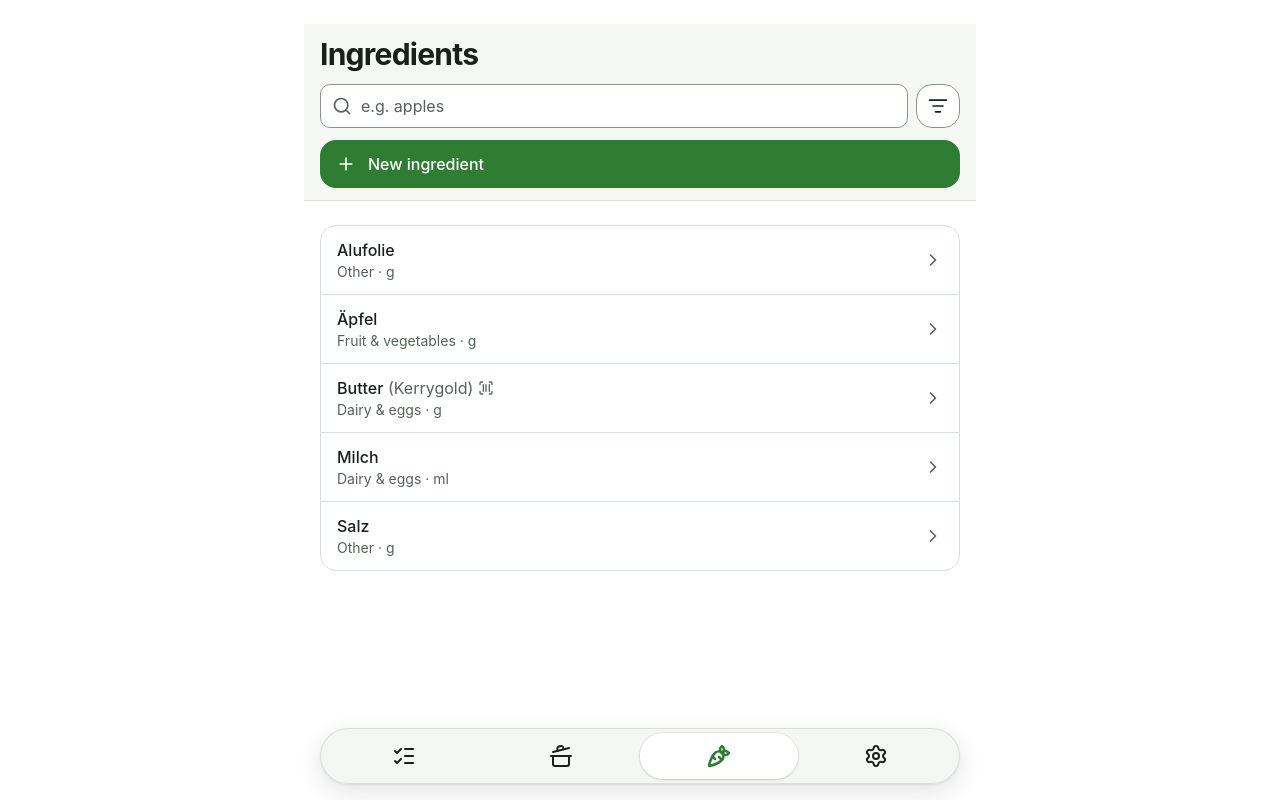
IngredientsScreen › resets every group but keeps the search, and closes with “Done” (UI-01)
This screenshot has width=1280, height=800.
Check: the list with test id "ingredient-list" is shown, box 320,225 -> 960,571
In the search field named "Search ingredients": [614, 106] box 320,84 -> 908,128, type "aepfel"
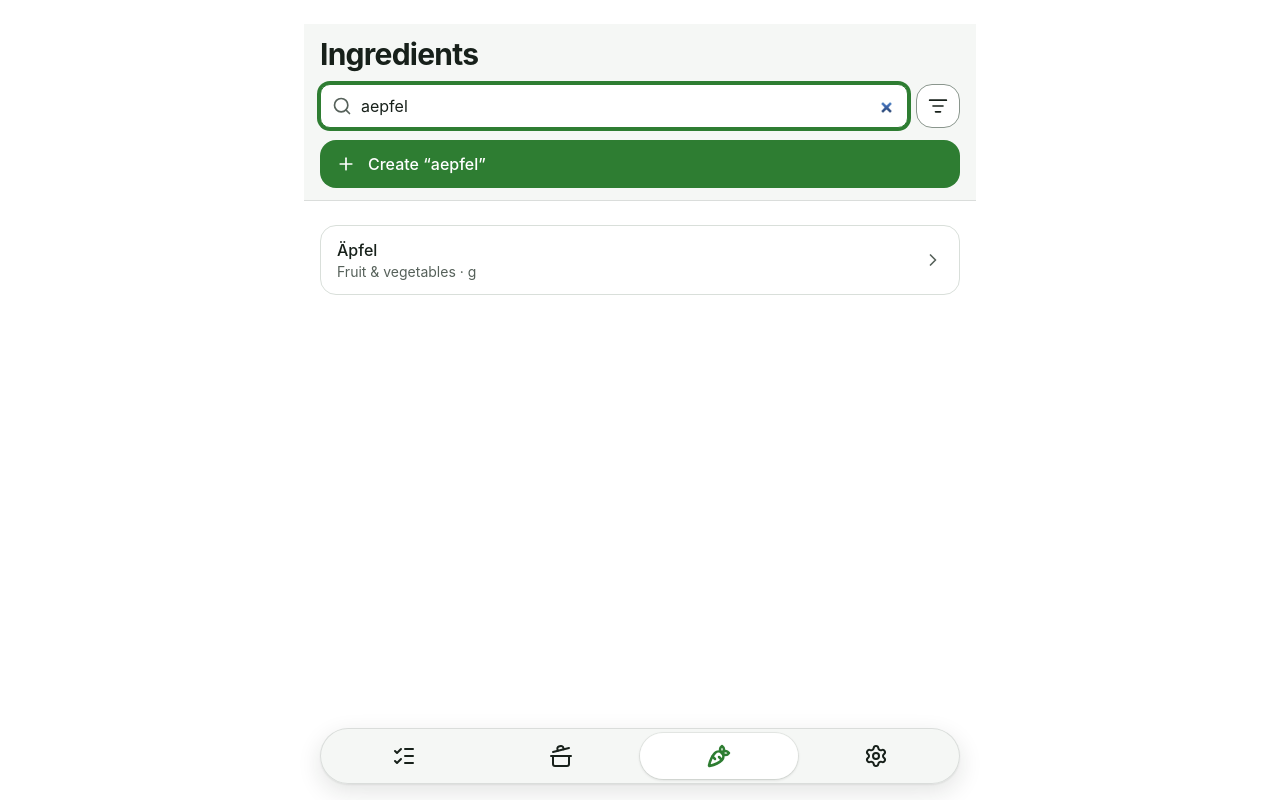
Click the button with test id "filter-button": [938, 106] box 916,84 -> 960,128
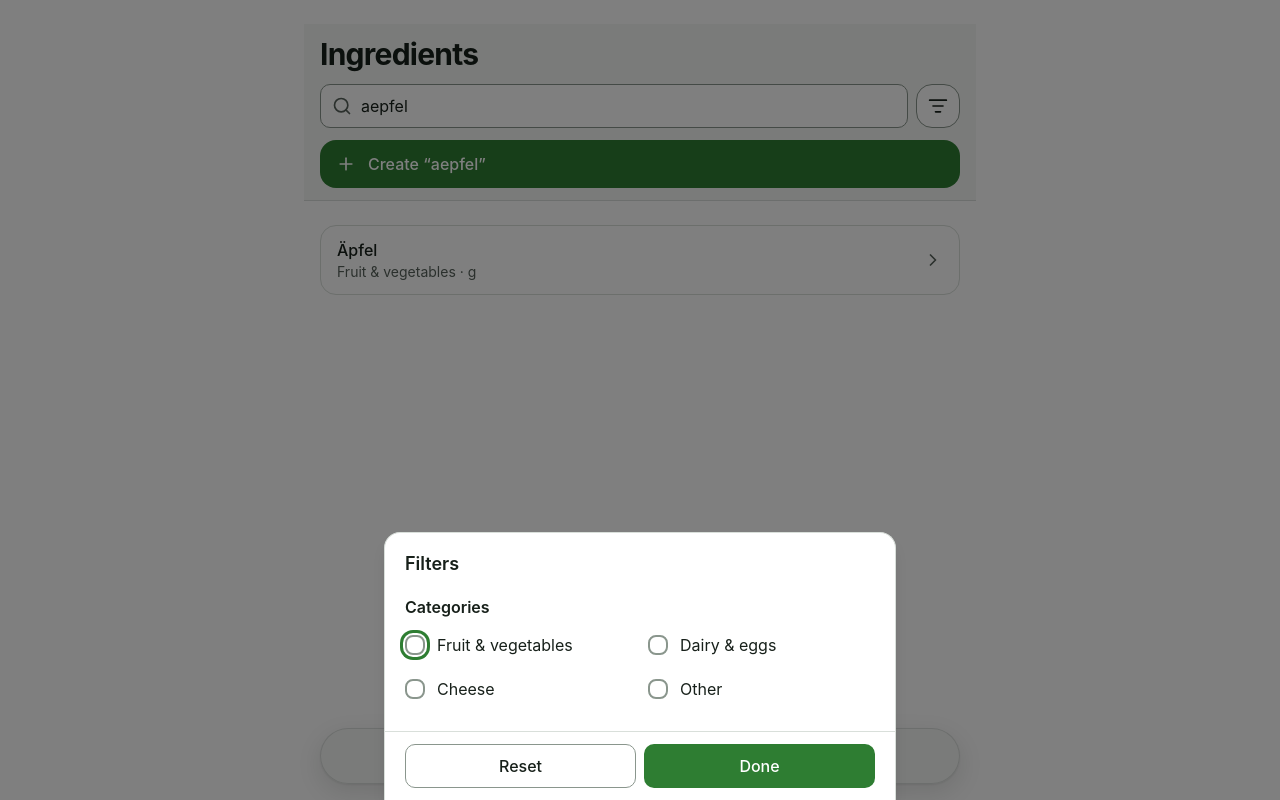
Click the checkbox labelled "Dairy & eggs": [658, 645] box 648,635 -> 668,655
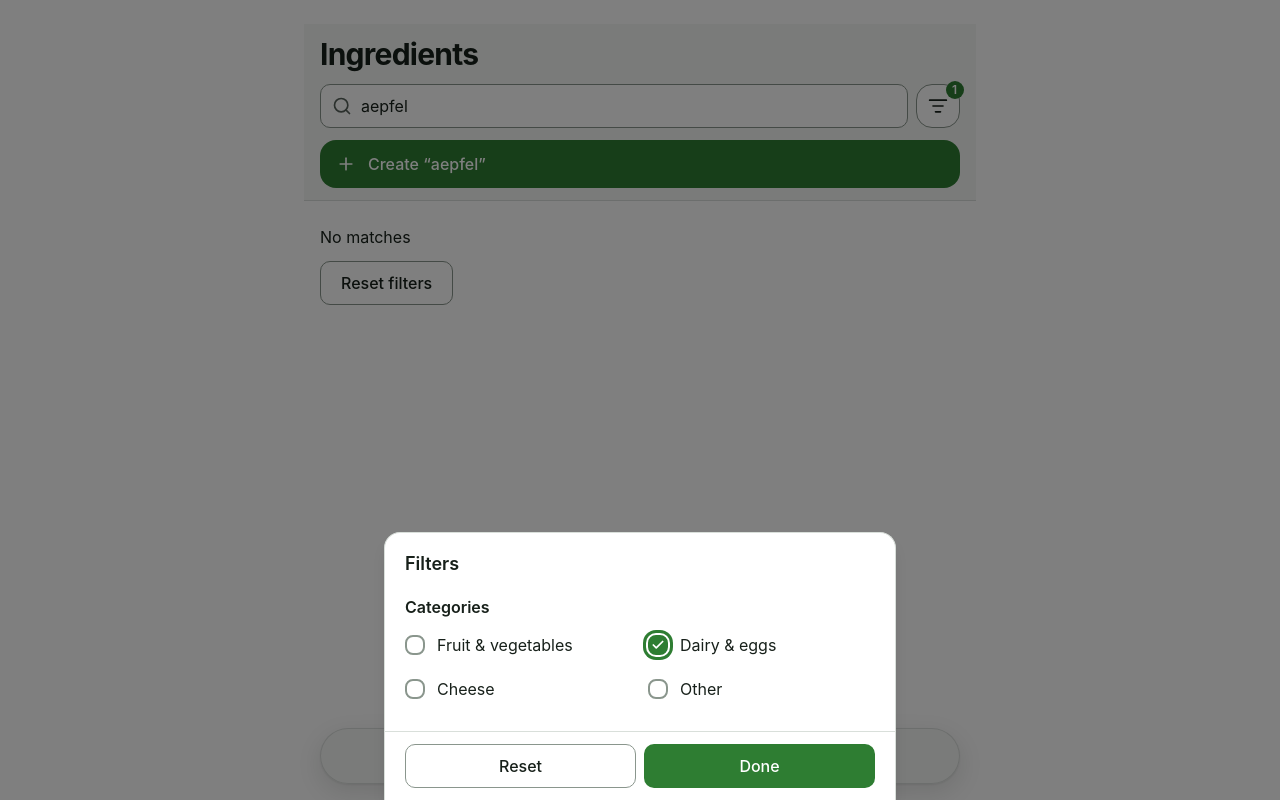
Click the checkbox labelled "Cheese": [415, 689] box 405,679 -> 425,699
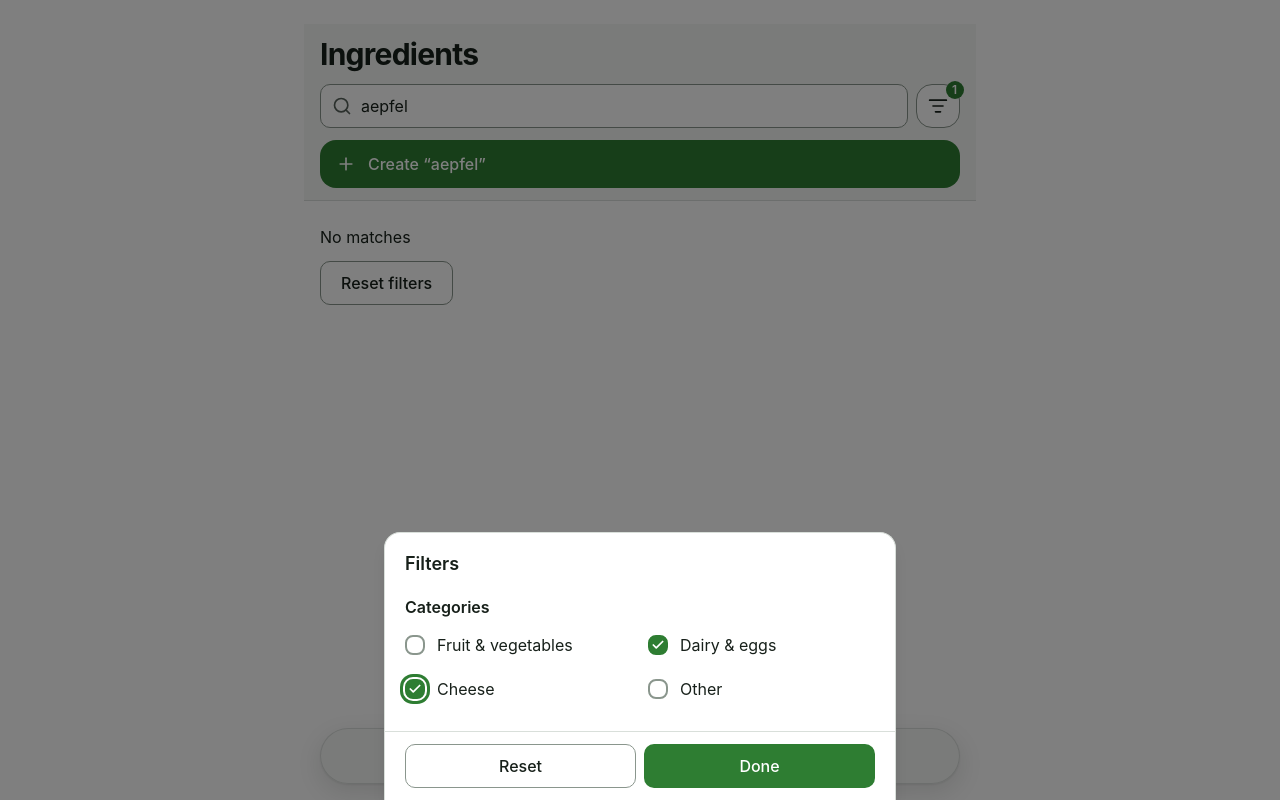
Click the button "Reset": [520, 766] box 405,744 -> 636,788
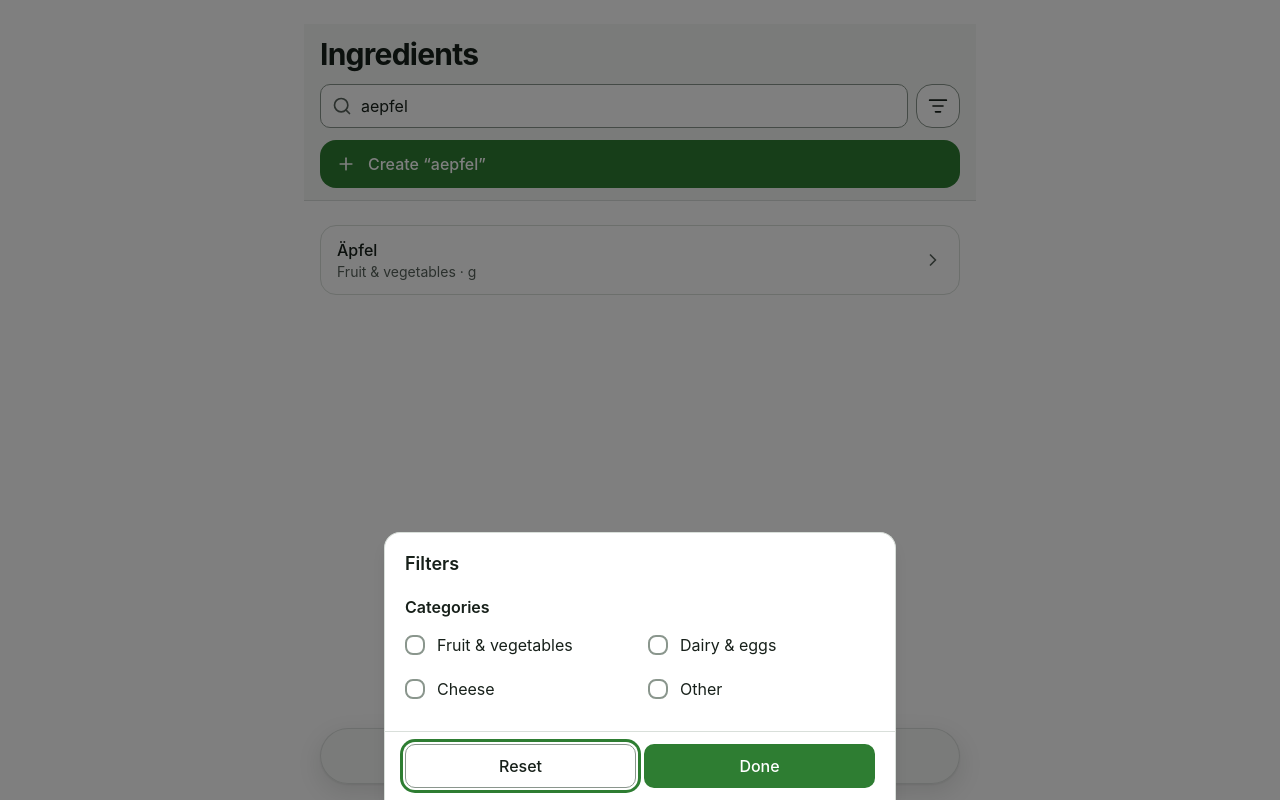
Check: the checkbox labelled "Dairy & eggs" is not checked, box 648,635 -> 668,655
Check: the checkbox labelled "Cheese" is not checked, box 405,679 -> 425,699
Check: the checkbox labelled "Fruit & vegetables" is not checked, box 405,635 -> 425,655
Click the button "Done": [760, 766] box 644,744 -> 875,788
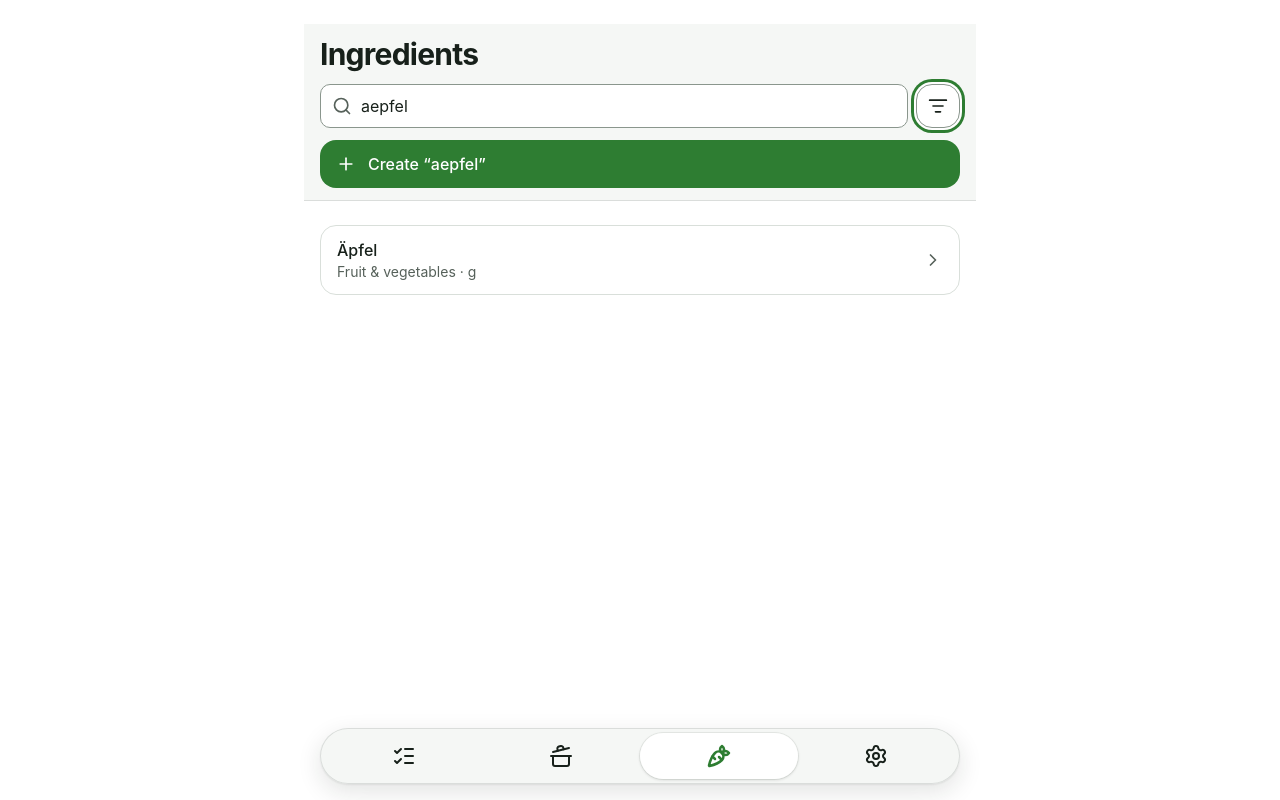
Check: the heading "Filters" is gone
